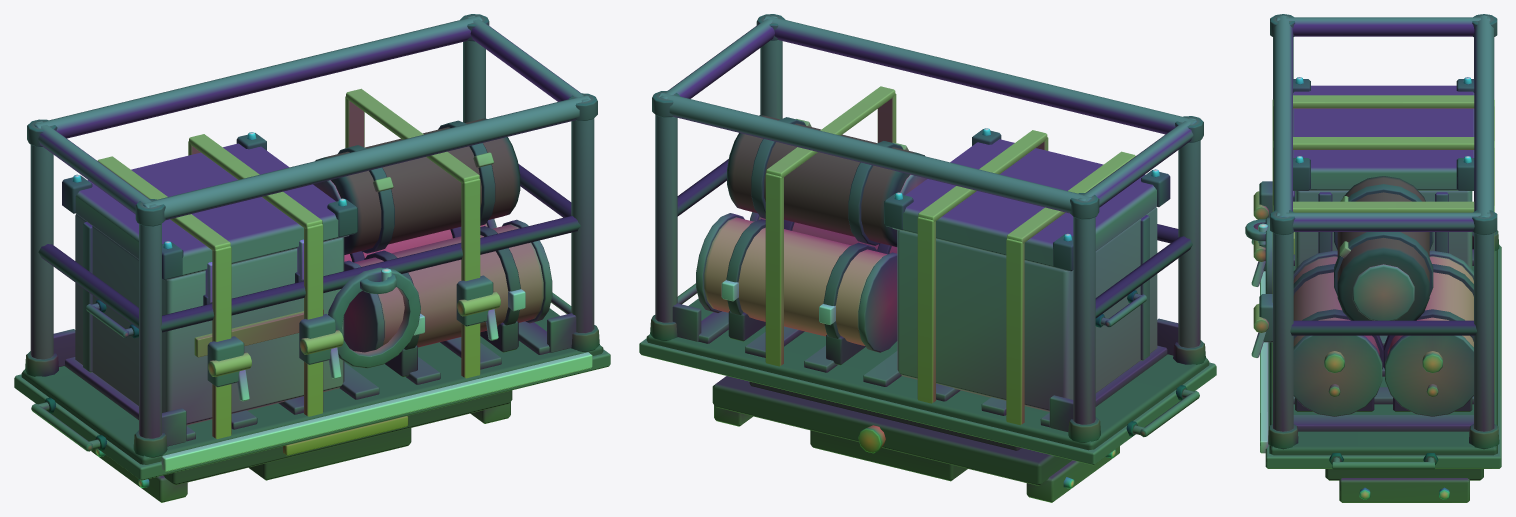
The model's file is back_rack.glb.
3 renders of one model, left to right at view 1: azimuth 30°, elevation 25°; view 2: azimuth 150°, elevation 25°; view 3: azimuth 270°, elevation 25°, orthographic. The views are drawn at different scales.
Parts seen in each view (by area): view 1: Body__gunmetal, Body__dark, Body__armor, Body__accent, Body__armor_sub, Body__rubber, Body__armor_dark, Body__hazard, Body__brass, Body__chrome; view 2: Body__gunmetal, Body__dark, Body__armor, Body__armor_sub, Body__accent, Body__rubber, Body__chrome, Body__armor_dark, Body__brass; view 3: Body__gunmetal, Body__dark, Body__armor_sub, Body__accent, Body__rubber, Body__armor, Body__armor_dark, Body__brass, Body__hazard, Body__chrome.
Part boxes in pixels (x1,y1,x2,y2): Body__gunmetal: (14,16,610,502); Body__dark: (21,14,603,485); Body__armor: (75,214,344,425); Body__accent: (97,88,480,455); Body__armor_sub: (75,143,487,280); Body__rubber: (315,118,520,254); Body__armor_dark: (354,224,543,347); Body__hazard: (161,352,592,471); Body__brass: (208,152,500,376); Body__chrome: (72,132,525,487); Body__gunmetal: (639,15,1216,502); Body__dark: (646,14,1209,485); Body__armor: (897,207,1157,411); Body__armor_sub: (704,139,1156,345); Body__accent: (765,86,1135,425); Body__rubber: (727,115,924,246); Body__chrome: (721,128,1159,488); Body__armor_dark: (758,216,897,253); Body__brass: (796,119,908,453); Body__gunmetal: (1245,15,1501,502); Body__dark: (1268,14,1499,480); Body__armor_sub: (1293,85,1474,355); Body__accent: (1272,95,1494,392); Body__rubber: (1337,176,1429,320); Body__armor: (1295,191,1472,269); Body__armor_dark: (1293,256,1379,354); Body__brass: (1253,191,1442,373); Body__hazard: (1260,271,1268,453); Body__chrome: (1251,77,1471,499).
Bounding box in the file's own units: 1.16 × 0.733 × 0.5496.
